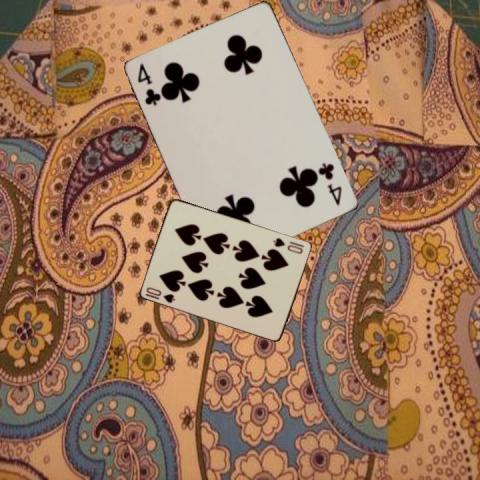10s: (270, 235, 304, 255), (143, 284, 177, 304)
4c: (316, 160, 344, 207), (134, 60, 162, 107)
